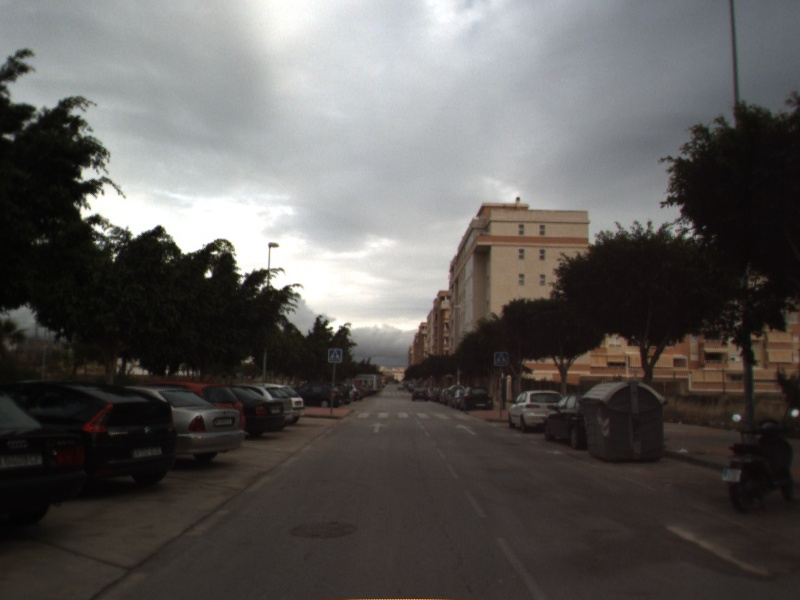STRAIGHT: (454, 422, 480, 437), (366, 420, 389, 435)
